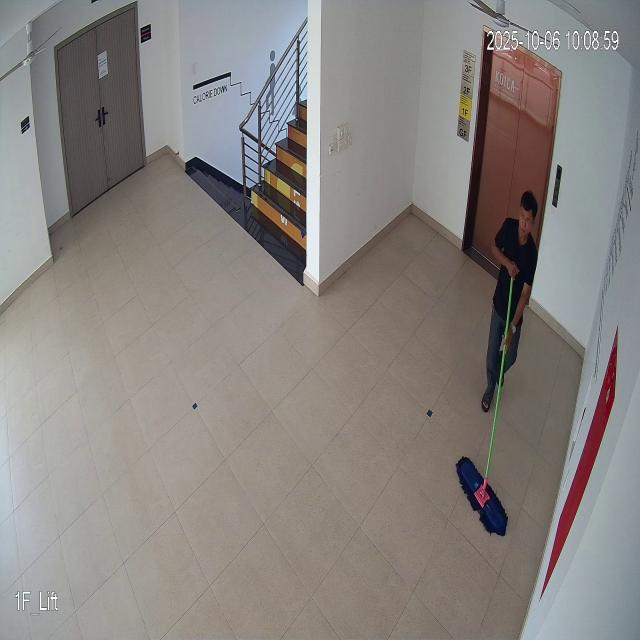face: (515, 188, 540, 250)
